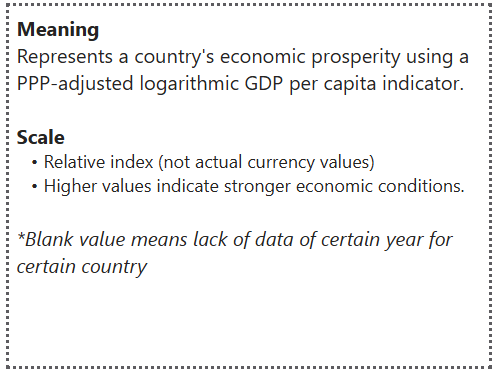

The page's visual inventory and layout, read from the dashboard file:
{"tool":"powerbi","page":{"name":"Tooltip GDP","canvas":[320,240],"ordinal":1},"visuals":[{"type":"textbox","box":[0,0,320,240],"z":0}]}

Visuals, with their boxes in screenshot pixels (x1, y1, x2, y2), scaled from the page's 320x240 canvas onto the 501x375 screenshot:
textbox: x1=0 y1=0 x2=500 y2=374
